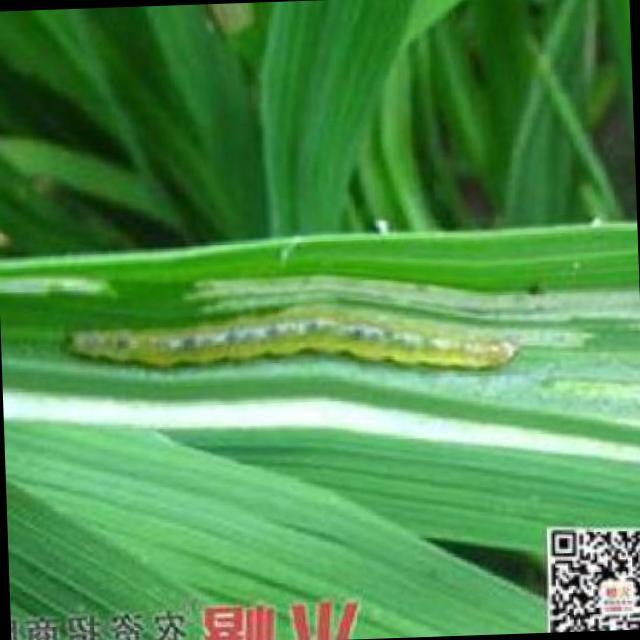leaf-folder: (45, 278, 528, 396)
